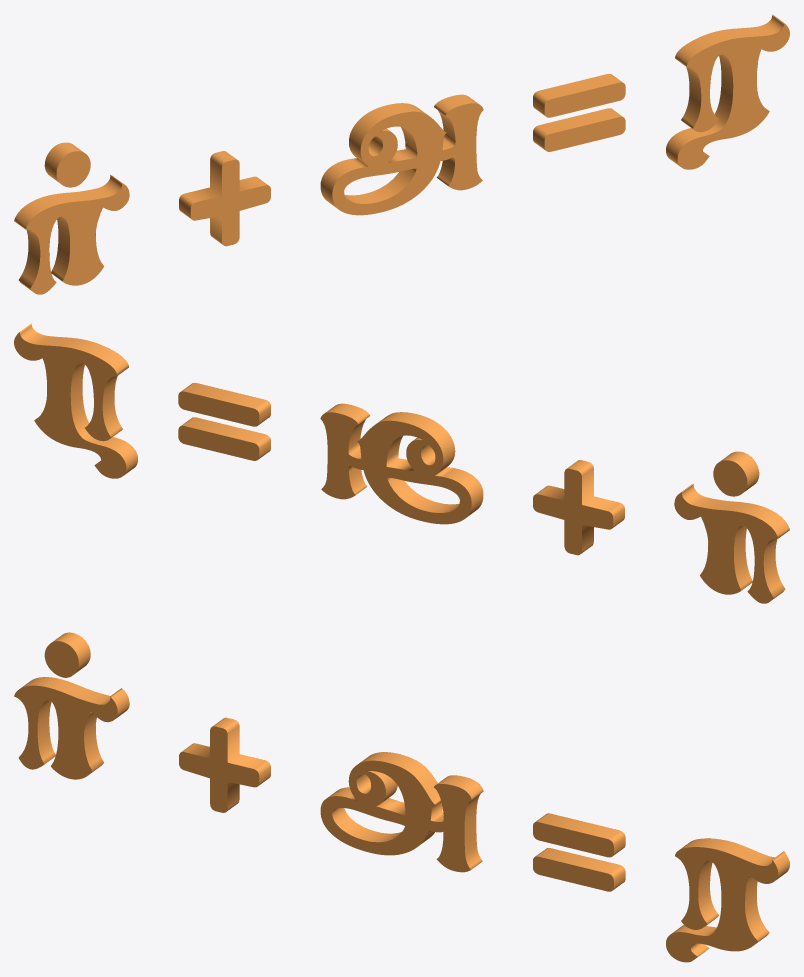
3 views of the same model, one above another, from view 1: azimuth 30°, elevation 25°; view 2: azimuth 150°, elevation 25°; view 3: azimuth 330°, elevation 25° (orthographic).
Parts seen in each view (by area): view 1: ra; view 2: ra; view 3: ra.
Part boxes in pixels (x1=…): ra: x1=14, y1=14, x2=789, y2=294; ra: x1=14, y1=323, x2=789, y2=603; ra: x1=14, y1=632, x2=789, y2=962.
Bounding box in the file's own units: 0.1614 × 0.0341 × 0.00431.
